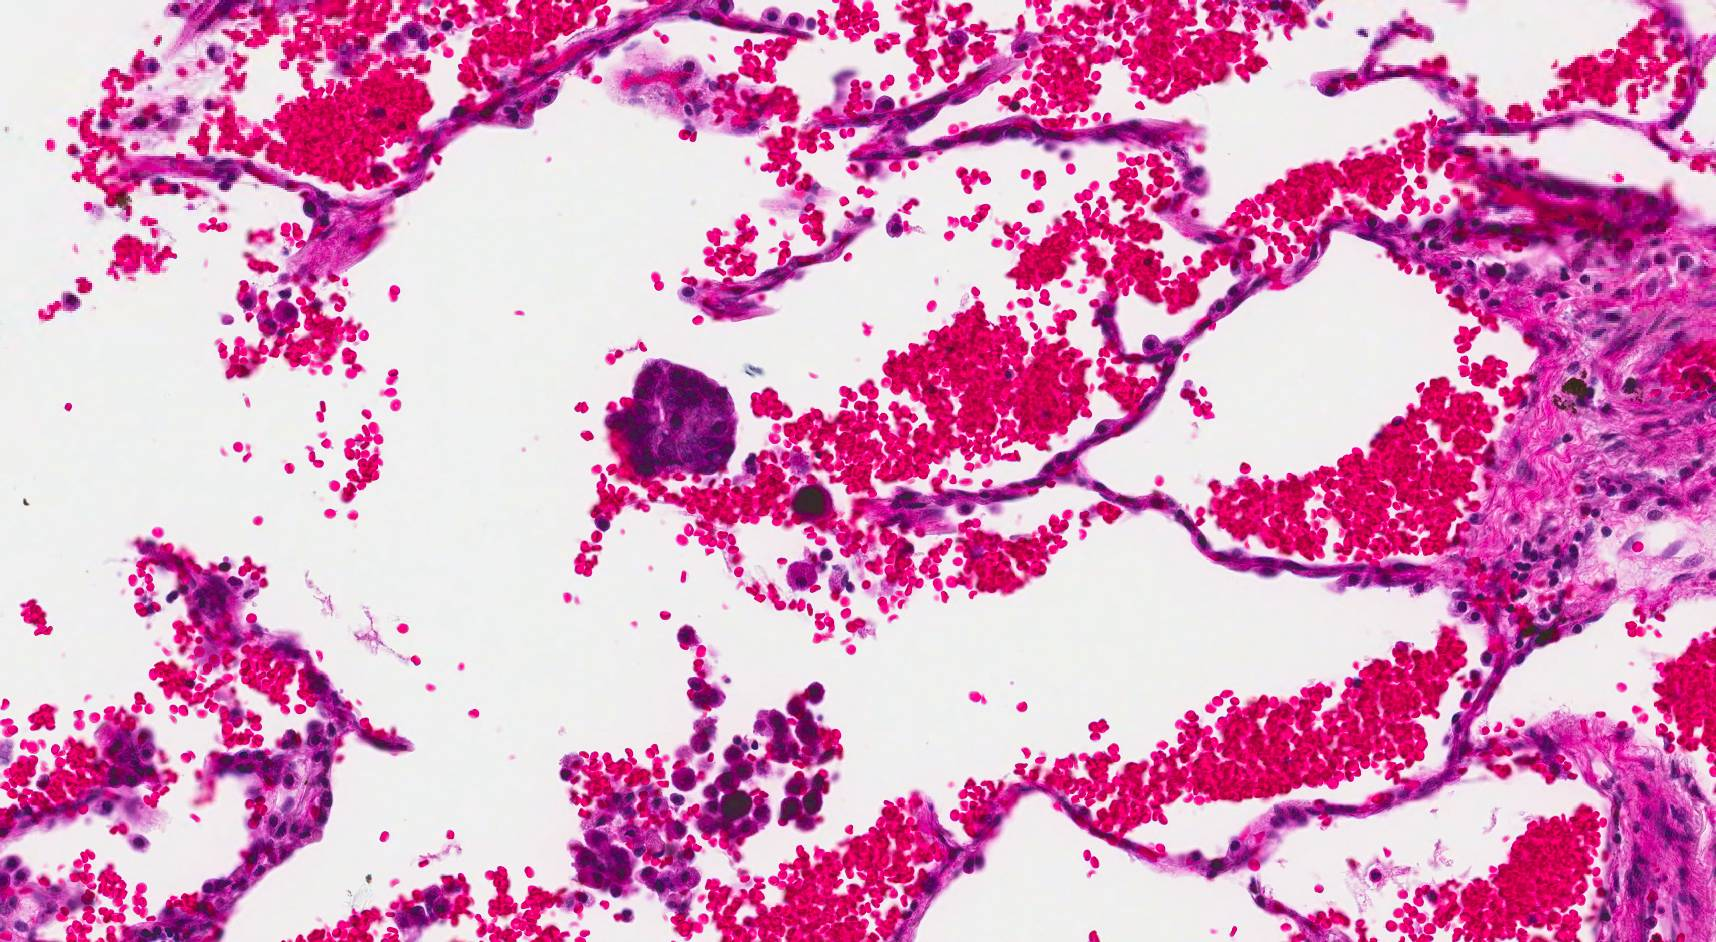stas: (605, 357, 736, 479)
